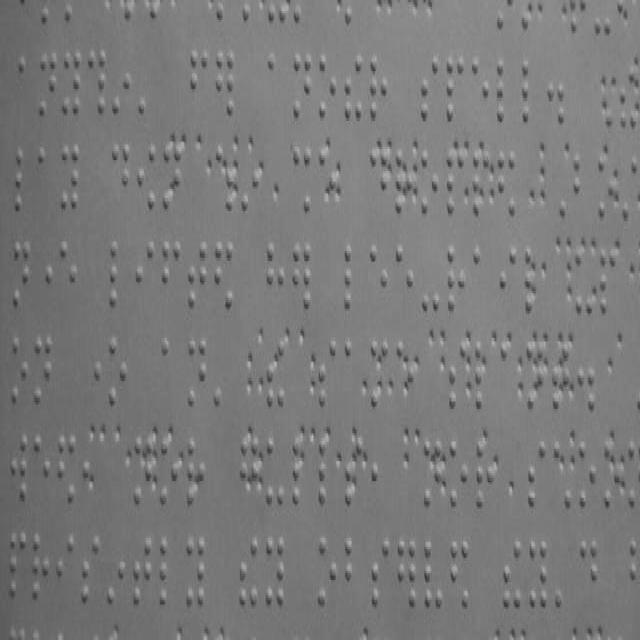braiile: (110, 140, 132, 216), (134, 238, 156, 313), (520, 54, 542, 128), (367, 241, 389, 315), (158, 534, 180, 608), (264, 536, 286, 610), (578, 536, 600, 610), (108, 237, 130, 310), (342, 242, 363, 318), (186, 536, 207, 612), (371, 533, 392, 609), (444, 242, 466, 314), (160, 238, 182, 309), (265, 238, 287, 309), (494, 56, 516, 126), (59, 237, 80, 310), (30, 528, 50, 604), (317, 536, 337, 612), (528, 536, 548, 612), (422, 539, 444, 608), (14, 146, 36, 214), (368, 50, 388, 124), (80, 532, 100, 606), (60, 142, 80, 214), (419, 147, 438, 222), (445, 149, 465, 220), (187, 240, 207, 311), (475, 440, 495, 511), (8, 529, 28, 600), (317, 53, 338, 120), (470, 56, 490, 126), (187, 336, 207, 406), (344, 536, 364, 606), (418, 56, 439, 122), (38, 52, 58, 121), (267, 50, 287, 119), (292, 50, 312, 119), (266, 436, 284, 512), (189, 44, 209, 112), (37, 148, 57, 216), (394, 244, 414, 312), (472, 244, 492, 312), (574, 246, 594, 314), (598, 248, 618, 316), (448, 340, 467, 411), (448, 440, 468, 507), (34, 334, 52, 408), (134, 534, 152, 608), (12, 237, 30, 310), (498, 244, 516, 316), (369, 148, 388, 216), (61, 50, 81, 114), (108, 338, 126, 409), (33, 431, 51, 502), (446, 54, 464, 124), (11, 334, 29, 404), (318, 336, 336, 406), (343, 336, 361, 406), (160, 436, 178, 506), (319, 436, 337, 506), (597, 152, 615, 221), (9, 432, 27, 501), (528, 441, 546, 510), (578, 439, 596, 508), (572, 154, 592, 216), (16, 54, 36, 115), (56, 530, 74, 594), (499, 342, 516, 409)
